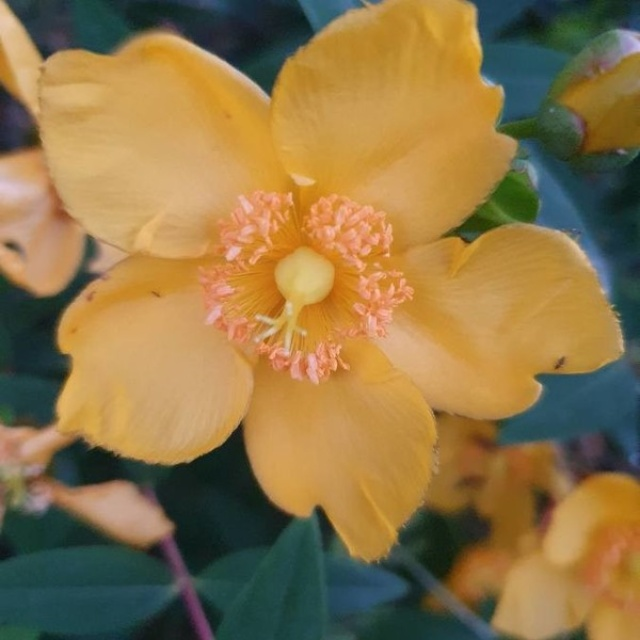obstacle: (31, 6, 611, 551)
